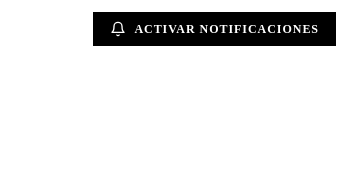
EnableNotificationsButton: enabling › shows the blocked hint when the shopper denies the permission prompt
Click the button at coordinates (215, 29), box [93, 12, 336, 46]
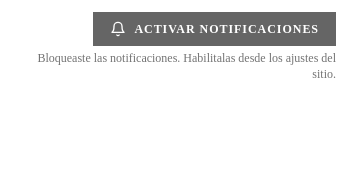
Check: the text "Bloqueaste las notificaciones. Habilitalas desde los ajustes del sitio." is shown, box [16, 50, 336, 82]
